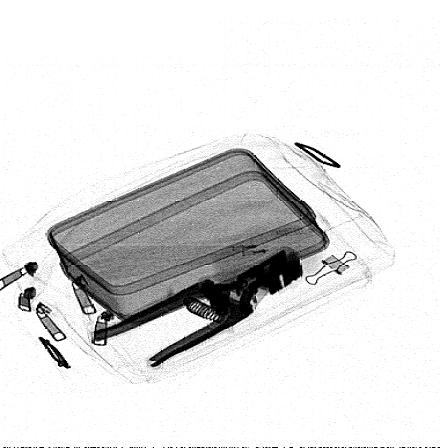Pliers: (93, 247, 304, 368)
